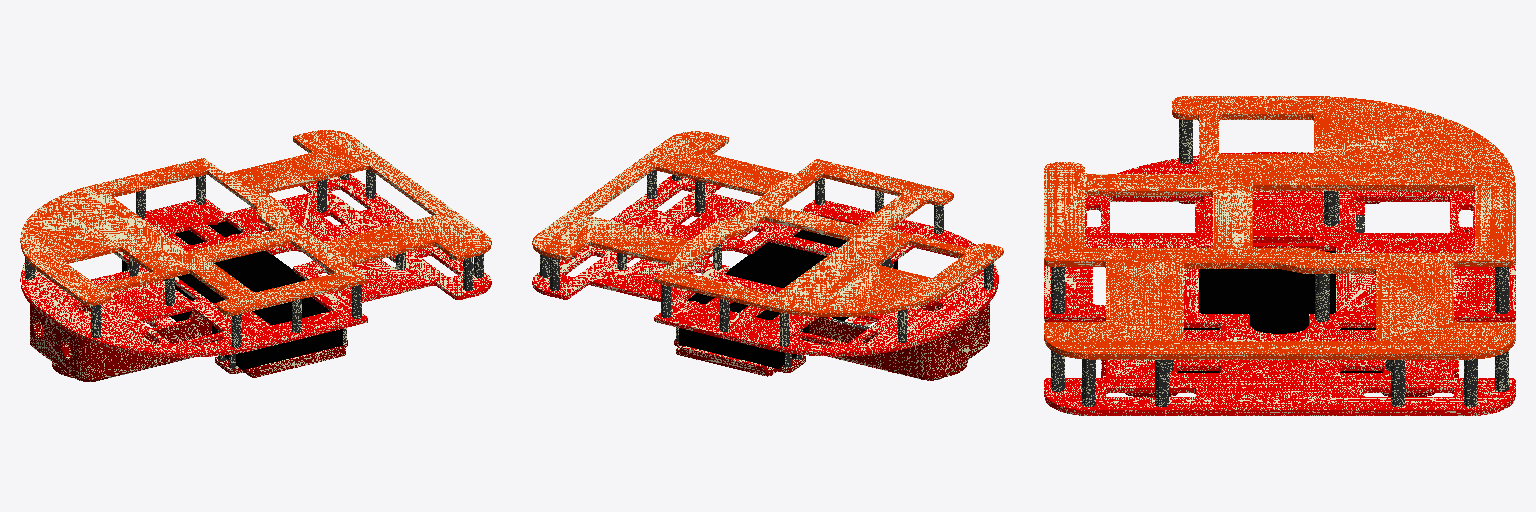
The robot description file, URDF, robot "next":
<?xml version="1.0" ?>
<robot name="next" xmlns:xacro="http://ros.org/wiki/xacro">

  <material name="blue">
    <color rgba="0.0 0.0 0.8 1.0"/>
  </material>
  <material name="grey">
    <color rgba="0.5 0.5 0.5 1.0"/>
  </material>
  <material name="red">
    <color rgba="0.8 0.0 0.0 1.0"/>
  </material>
  <material name="indigo">
    <color rgba="0.33 0.0 0.5 1.0"/>
  </material>
  <material name="yellow">
    <color rgba="1.0 1.0 0.0 1.0"/>
  </material>
  <material name="white">
    <color rgba="1.0 1.0 1.0 1.0"/>
  </material>
  <material name="black">
    <color rgba="0.01 0.01 0.01 0.9"/>
  </material>

  <link name="base_footprint"/>

  <joint name="base_joint" type="fixed">
    <parent link="base_footprint"/>
    <child link="base_link"/>
    <origin xyz="0.0 0.0 0.03425" rpy="0 0 0"/>
  </joint>
  <link name="base_link">
    <visual>
      <origin xyz="0 0 0" rpy="0 0 0"/>
      <geometry>
        <mesh filename="package://rosrider_description/meshes/next_urdf.dae" scale="1 1 1"/>
      </geometry>
    </visual>
  </link>

  <joint name="wheel_left_joint" type="continuous">
    <parent link="base_link"/>
    <child link="wheel_left_link"/>
    <origin xyz="0.0 0.087 0.0" rpy="-1.57 0 0"/>
    <axis xyz="0 0 1"/>
  </joint>
  <link name="wheel_left_link">
    <visual>
      <origin xyz="0 0 0" rpy="0 0 0"/>
      <geometry>
        <mesh filename="package://rosrider_description/meshes/wheel_left.dae" scale="1 1 1"/>
      </geometry>
    </visual>
  </link>

  <joint name="wheel_right_joint" type="continuous">
    <parent link="base_link"/>
    <child link="wheel_right_link"/>
    <origin xyz="0.0 -0.087 0.0" rpy="-1.57 0 0"/>
    <axis xyz="0 0 1"/>
  </joint>
  <link name="wheel_right_link">
    <visual>
      <origin xyz="0 0 0" rpy="0 0 0"/>
      <geometry>
        <mesh filename="package://rosrider_description/meshes/wheel_right.dae" scale="1 1 1"/>
      </geometry>
    </visual>
  </link>

  <joint name="wheel_steering_joint" type="continuous">
    <parent link="base_link"/>
    <child link="wheel_steering_link"/>
    <axis xyz="0 0 1"/>
    <origin xyz="-0.1842 0 -0.00875" rpy="0 0 0"/>
  </joint>
  <link name="wheel_steering_link">
  </link>

  <joint name="wheel_castor_joint" type="continuous">
    <parent link="wheel_steering_link"/>
    <child link="wheel_castor_link"/>
    <axis xyz="0 1 0"/>
    <origin xyz="-0.016 0 -0.01275" rpy="0 0 0"/>
  </joint>
  <link name="wheel_castor_link">
      <collision>
        <geometry>
          <mesh filename="package://rosrider_description/meshes/vac_wheel.stl" scale="0.001 0.001 0.001"/>
        </geometry>
      </collision>
      <visual>
        <geometry>
          <mesh filename="package://rosrider_description/meshes/vac_wheel.dae" scale="1 1 1"/>
        </geometry>
      </visual>
  </link>

  <joint name="scan_joint" type="fixed">
    <parent link="base_link"/>
    <child link="base_scan"/>
    <origin xyz="-0.1692 0.0 0.061" rpy="0 0 0"/>
  </joint>
  <link name="base_scan">
    <visual>
      <origin xyz="0 0 0" rpy="0 0 0"/>
      <geometry>
        <mesh filename="package://rosrider_description/meshes/ldlidar.dae" scale="1 1 1"/>
      </geometry>
    </visual>
  </link>

  <joint name="imu_joint" type="fixed">
    <parent link="base_link"/>
    <child link="imu_link"/>
    <origin xyz="0.0378 0.0 0.0473" rpy="0 0 0"/>
  </joint>
  <link name="imu_link">
    <visual>
      <origin xyz="0 0 0" rpy="0 0 0"/>
      <geometry>
        <mesh filename="package://rosrider_description/meshes/fximu3e.dae" scale="1 1 1"/>
      </geometry>
    </visual>
  </link>

  <joint name="battery_joint" type="fixed">
    <parent link="base_link"/>
    <child link="battery_link"/>
    <origin xyz="-0.07183 0 0.0116" rpy="0 0 0"/>
  </joint>
  <link name="battery_link">
    <visual>
      <origin xyz="0 0 0" rpy="0 0 0"/>
      <geometry>
        <box size="0.0736 0.1535 0.0276"/>
      </geometry>
      <material name="black"/>
    </visual>
  </link>

</robot>

--- Facts derived from the render (not from the file) ---
Views: 3 orthographic renders of the robot side by side, from view 1: azimuth 30°, elevation 25°; view 2: azimuth 150°, elevation 25°; view 3: azimuth 270°, elevation 25°.
Model next with 9 links and 8 joints (4 continuous, 4 fixed), rooted at base_footprint, posed every joint at zero.
Visible links, largest first — view 1: base_link, battery_link; view 2: base_link, battery_link; view 3: base_link, battery_link.
Link boxes in pixels (x1,y1,x2,y2): base_link: (20,130,491,381); battery_link: (122,221,342,369); base_link: (532,131,1003,380); battery_link: (679,230,897,368); base_link: (1044,96,1515,415); battery_link: (1177,251,1382,372).
Size in the robot's own frame: 0.272 by 0.21 by 0.0684 metres.
Meshes: 6 distinct files referenced, 1 mesh visuals loaded (1 Collada DAE); not drawn: 5 (reference not matched to a file when rendering).